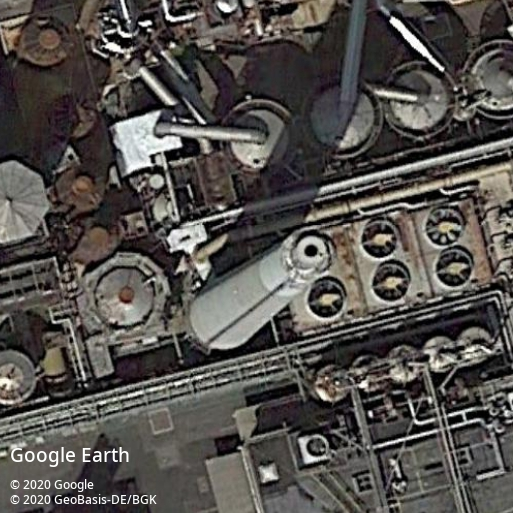Vent: (423, 207, 466, 249), (432, 249, 473, 292), (368, 263, 411, 304), (305, 278, 346, 320), (360, 219, 400, 262), (304, 434, 329, 460)
